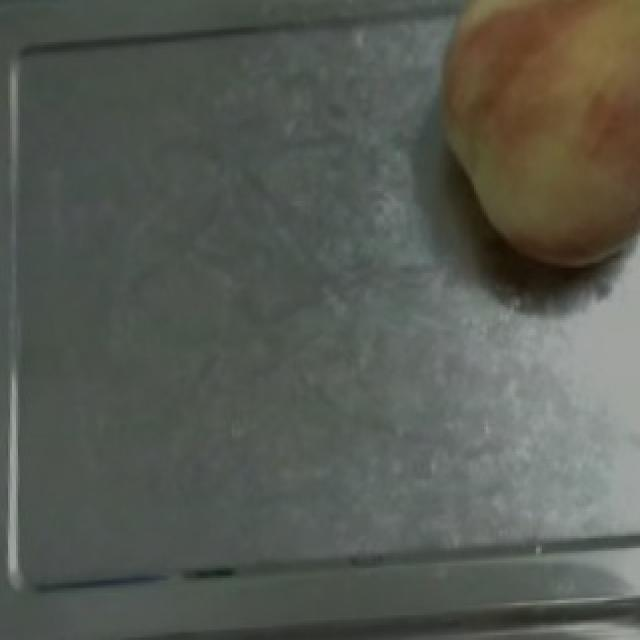Fruit: (414, 0, 640, 280)
